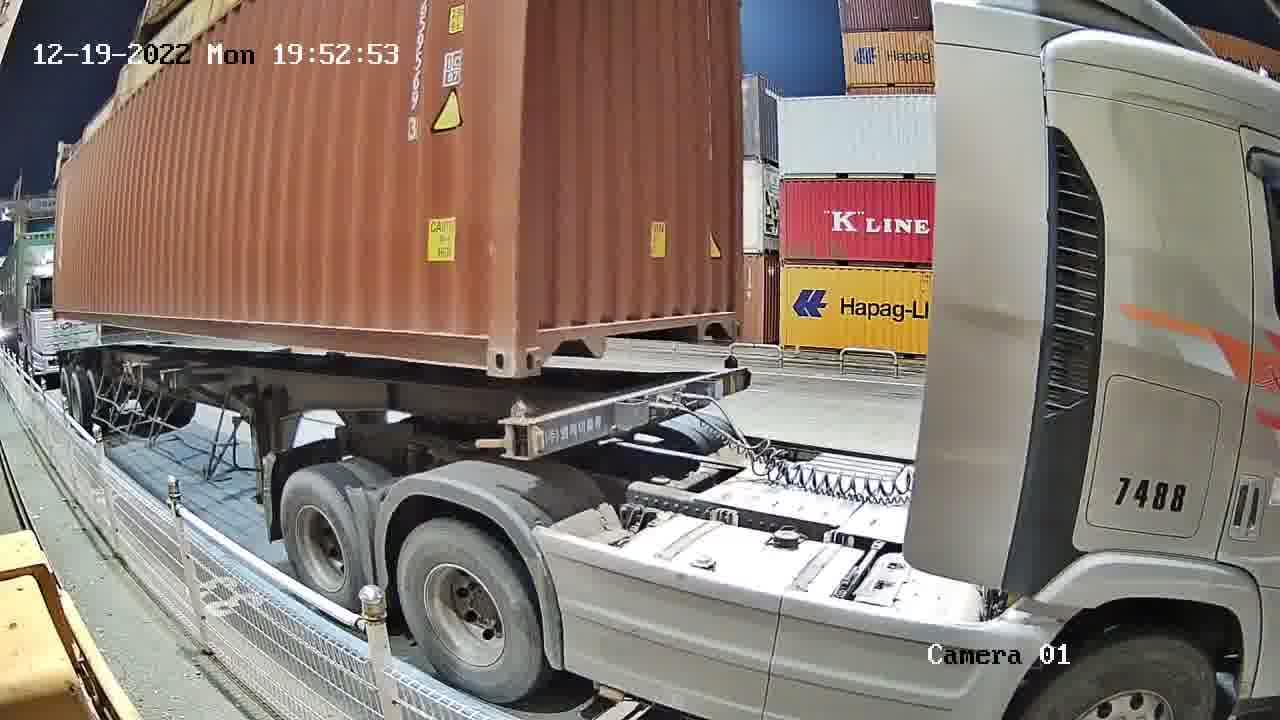Chassis: (501, 367, 744, 462)
Cone: (502, 400, 531, 464), (722, 353, 740, 372)
Hole_L: (514, 310, 576, 377)
Hole_R: (453, 307, 514, 378), (701, 291, 744, 340)
Tire: (398, 523, 539, 704), (282, 472, 361, 607)
